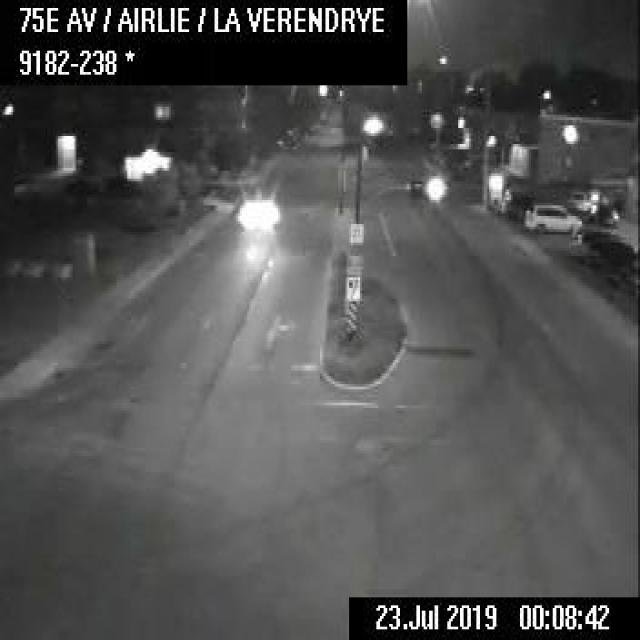vehicle: (567, 226, 637, 266), (522, 200, 580, 234), (501, 185, 529, 215)
